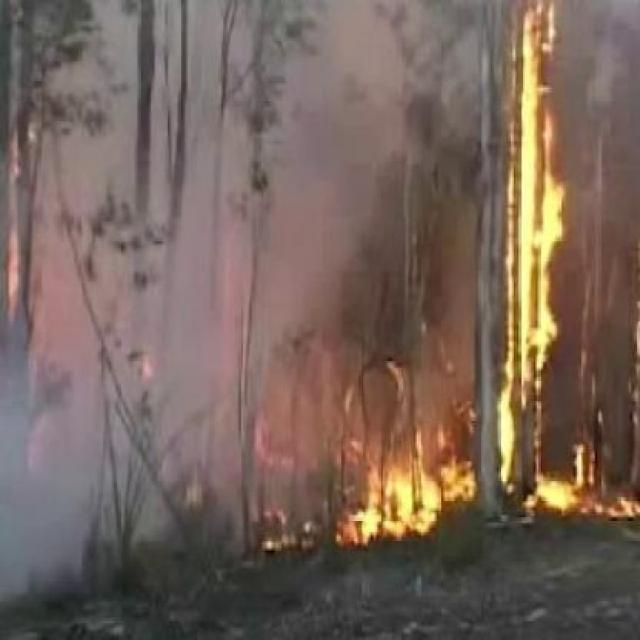Fire: (343, 8, 640, 571)
Smoke: (0, 0, 347, 578)
